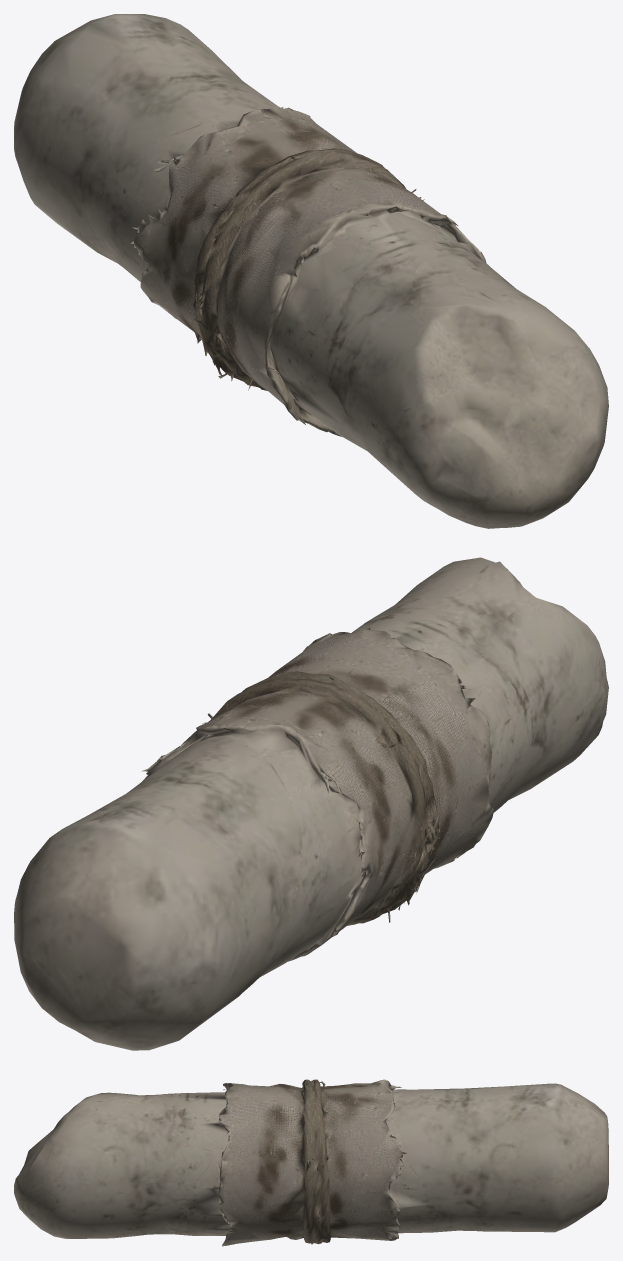
The model's file is chalk.glb.
3 views of the same model, one above another, from view 1: azimuth 30°, elevation 25°; view 2: azimuth 150°, elevation 25°; view 3: azimuth 270°, elevation 25° (orthographic). The views are drawn at different scales.
Visible parts, largest first — view 1: item; view 2: item; view 3: item.
Part boxes in pixels (left/top/right/bottom): item: left=14, top=14, right=608, bottom=528; item: left=14, top=557, right=608, bottom=1050; item: left=14, top=1079, right=608, bottom=1246.
Size of the model in its own units: 0.024 by 0.0223 by 0.08.
Materials: 1 (1 with a texture image).
